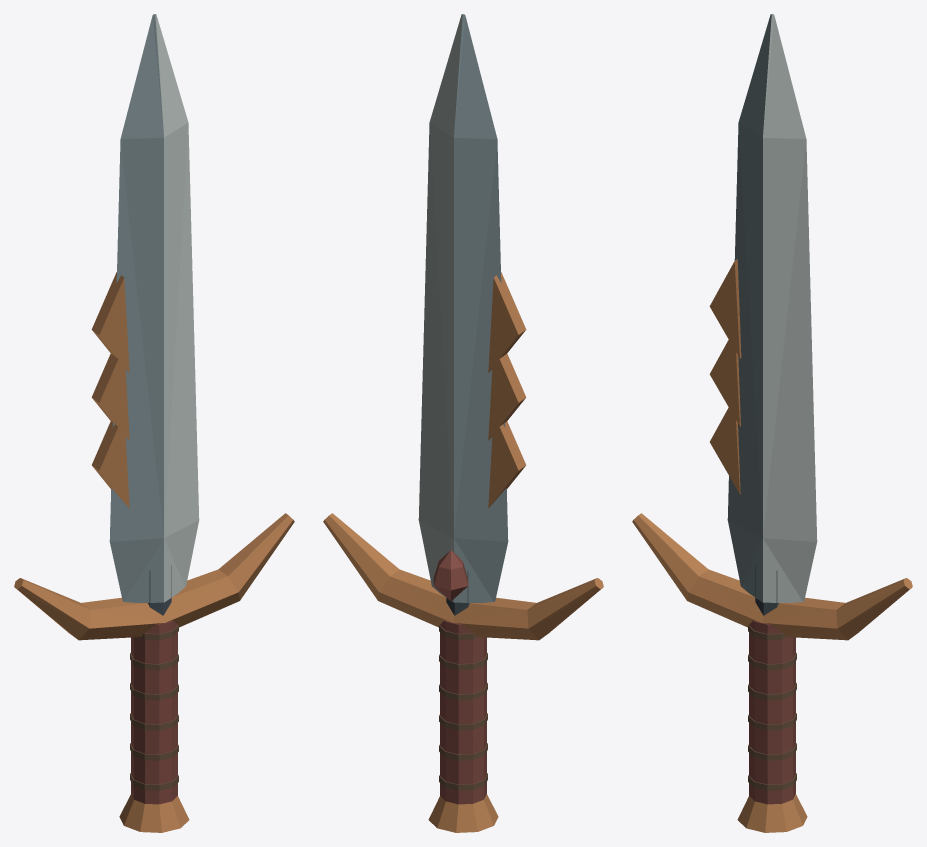
File: AEW_Sword_DragonTithe.fbx
3 views of the same model, side by side, from view 1: azimuth 30°, elevation 25°; view 2: azimuth 150°, elevation 25°; view 3: azimuth 330°, elevation 25° (orthographic).
Parts seen in each view (by area): view 1: AEW_Sword_DragonTithe; view 2: AEW_Sword_DragonTithe; view 3: AEW_Sword_DragonTithe.
Part boxes in pixels (<box>): AEW_Sword_DragonTithe: <box>14,14,294,832</box>; AEW_Sword_DragonTithe: <box>323,14,603,832</box>; AEW_Sword_DragonTithe: <box>632,14,912,832</box>.
Size of the model in its own units: 0.4499 by 1.24 by 0.1063.
